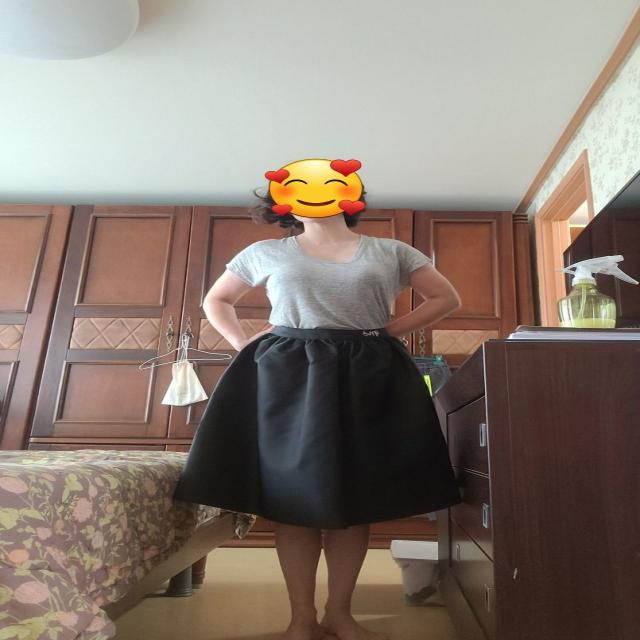shortsleeve: (225, 233, 436, 334)
skirt: (172, 324, 454, 527)
